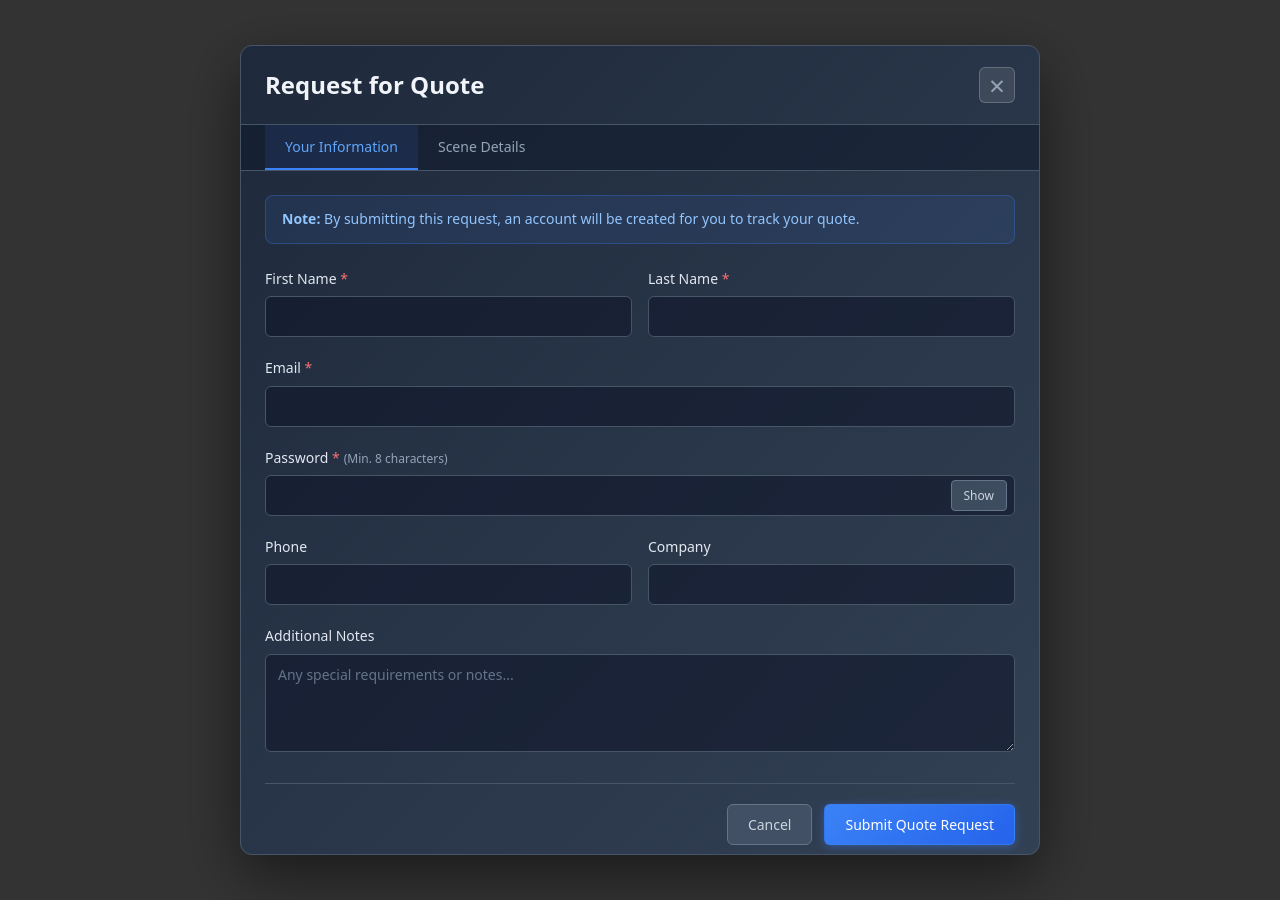
it: QuoteRequestModal Form Validation › should disable submit button while submitting
Type "John" into the field labelled "First Name *" at (448, 317), box top-left (265, 296), bottom-right (632, 337)
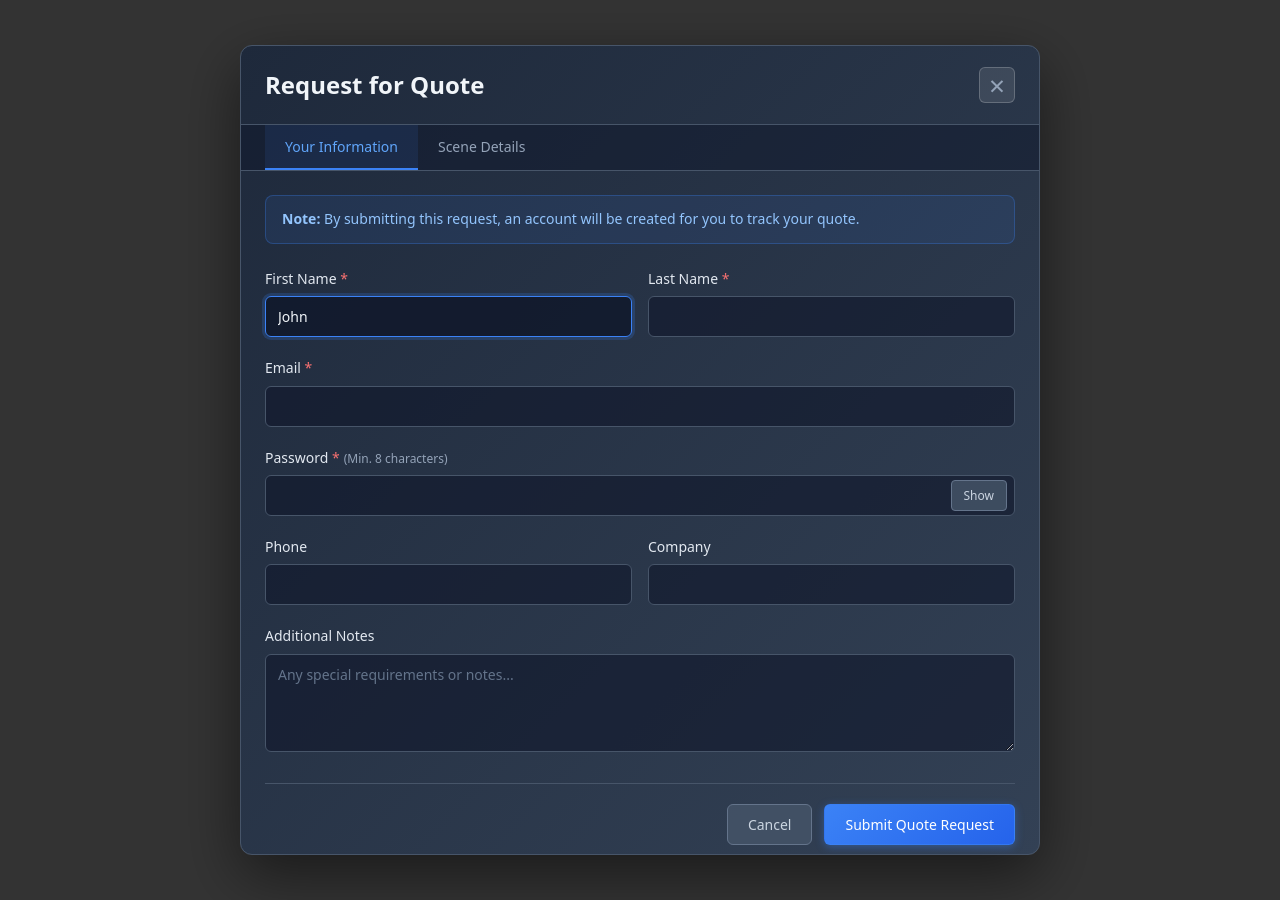
Type "Doe" into the field labelled "Last Name *" at (832, 317), box top-left (648, 296), bottom-right (1015, 337)
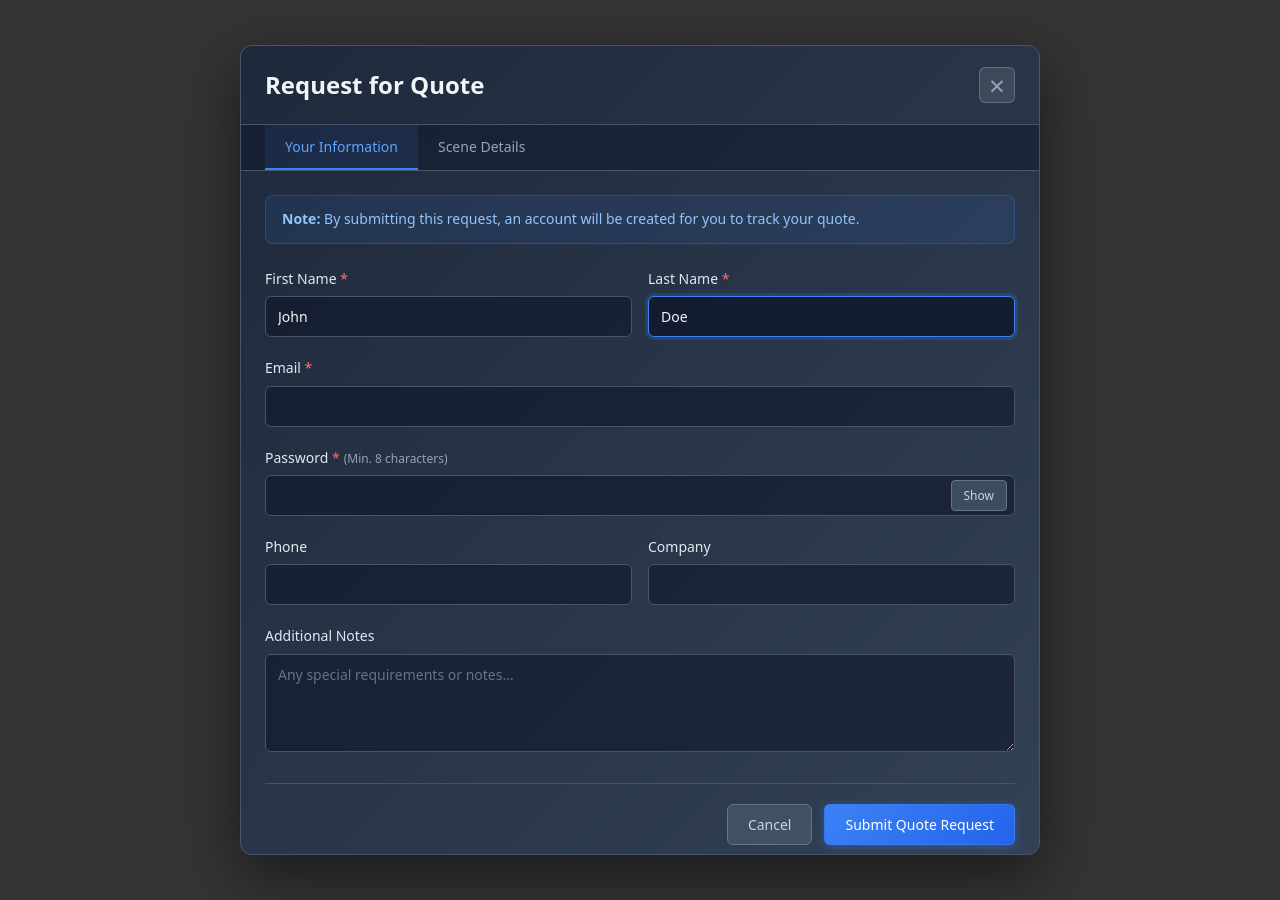
Type "john@example.com" into the field labelled "Email *" at (640, 406), box top-left (265, 386), bottom-right (1015, 427)
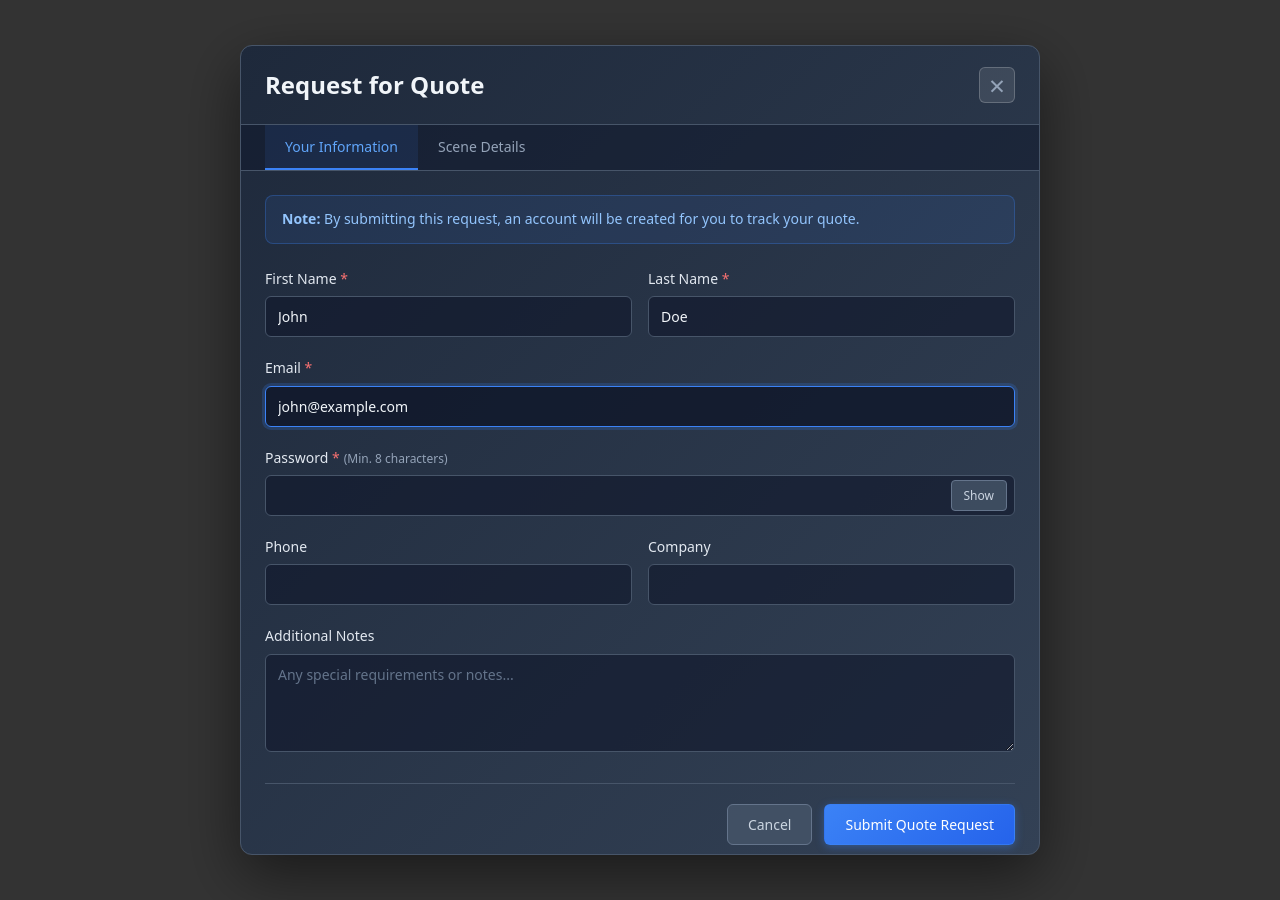
Type "validPassword123" into the password field labelled "Password *(Min. 8 characters)" at (640, 496), box top-left (265, 475), bottom-right (1015, 516)
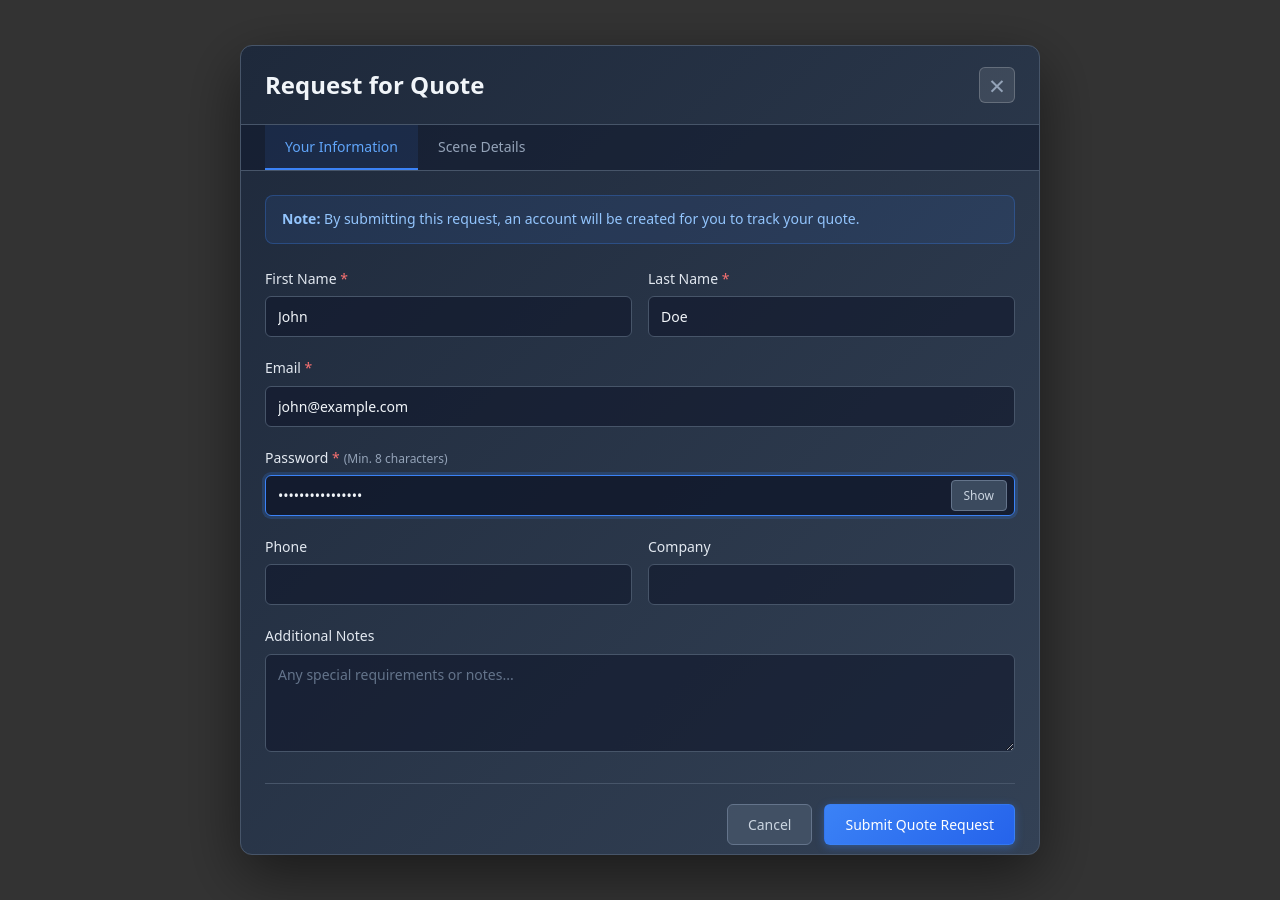
Click the button "Submit Quote Request" at (920, 825), box top-left (824, 804), bottom-right (1015, 845)
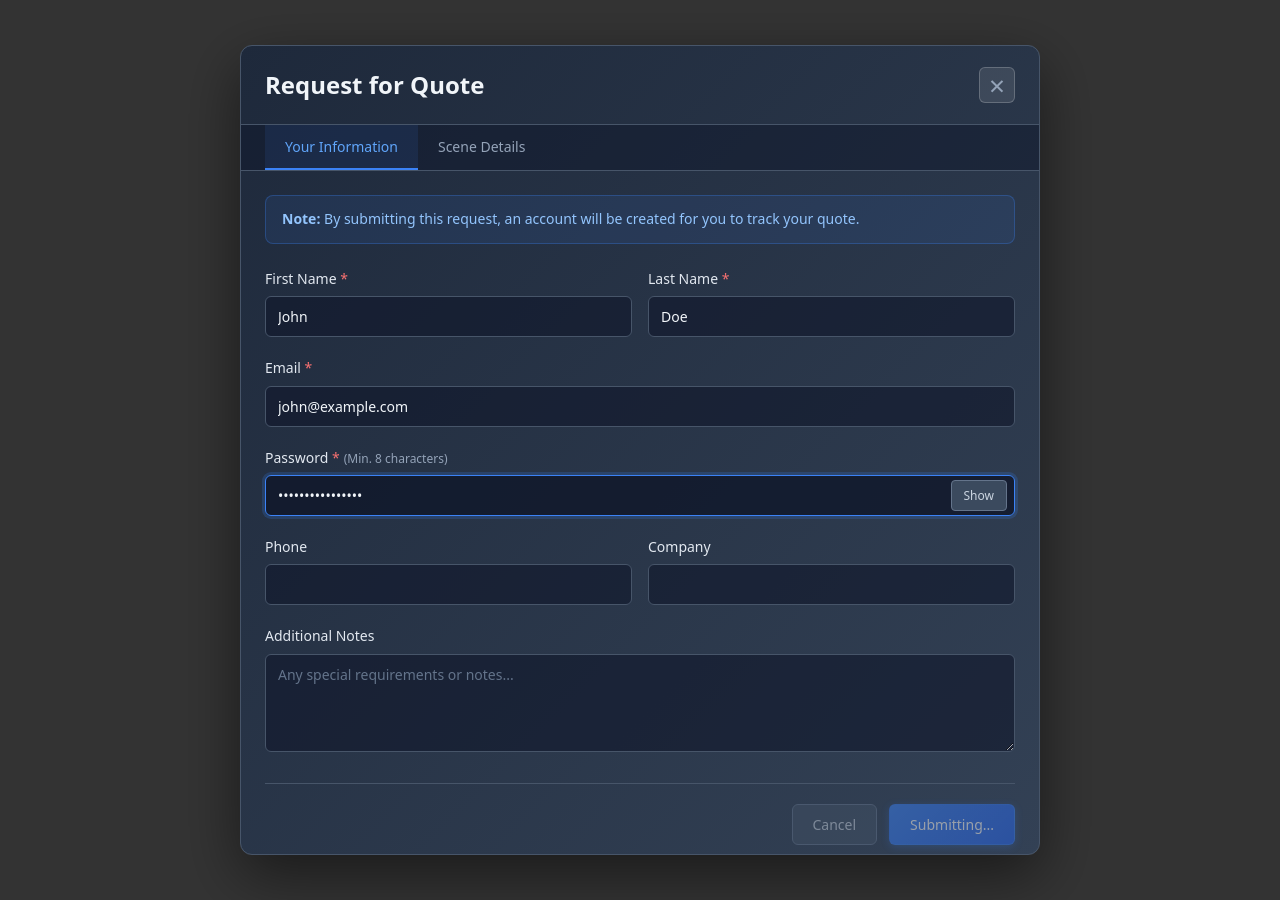
Check: the button "Submitting..." is disabled, box top-left (889, 804), bottom-right (1015, 845)
